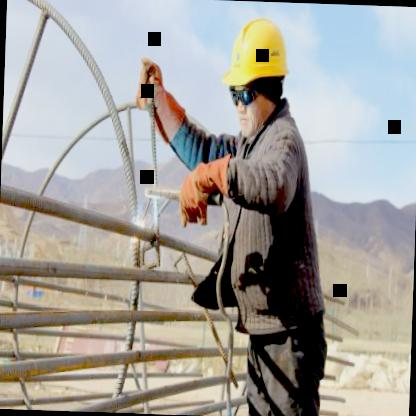helmet: (221, 3, 298, 142)
